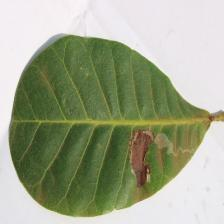leaf miner: (8, 34, 223, 217), (128, 126, 154, 189)
